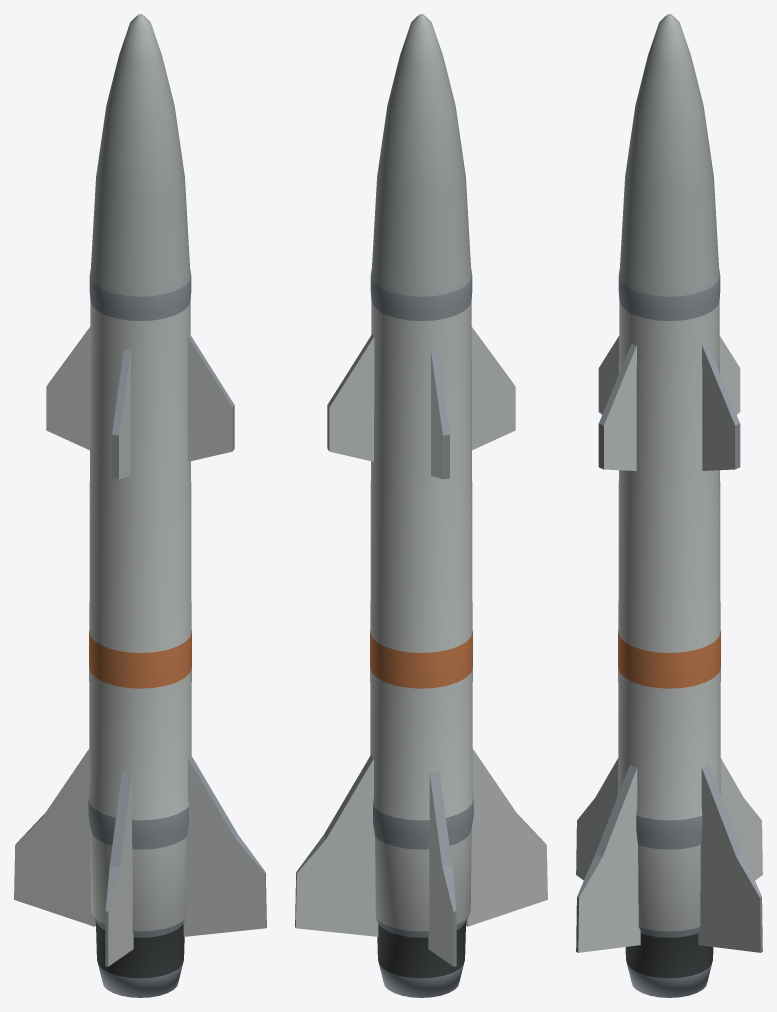
The model's file is projectile.glb.
The picture shows the model from 3 angles, left to right: view 1: azimuth 30°, elevation 25°; view 2: azimuth 150°, elevation 25°; view 3: azimuth 270°, elevation 25°; orthographic projection.
Visible parts, largest first — view 1: FlightBody; view 2: FlightBody; view 3: FlightBody.
Boxes of the visible parts, x1,y1,x2,y2 form: FlightBody: [14, 14, 266, 997]; FlightBody: [295, 14, 547, 997]; FlightBody: [576, 14, 762, 997].
Size of the model in its own units: 0.6182 by 3.53 by 0.6182.
